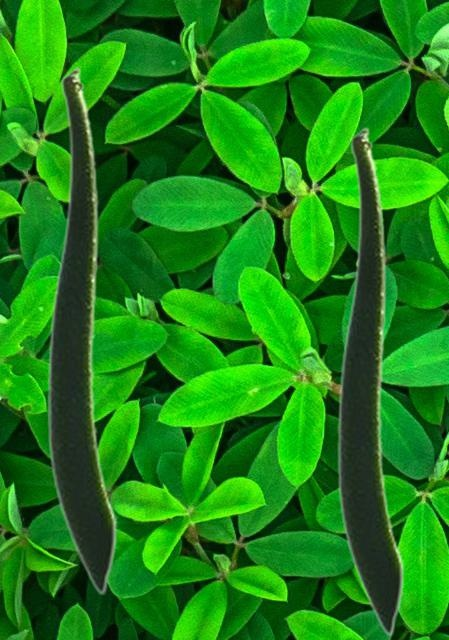french_bean: (46, 66, 117, 595), (336, 126, 404, 636)
